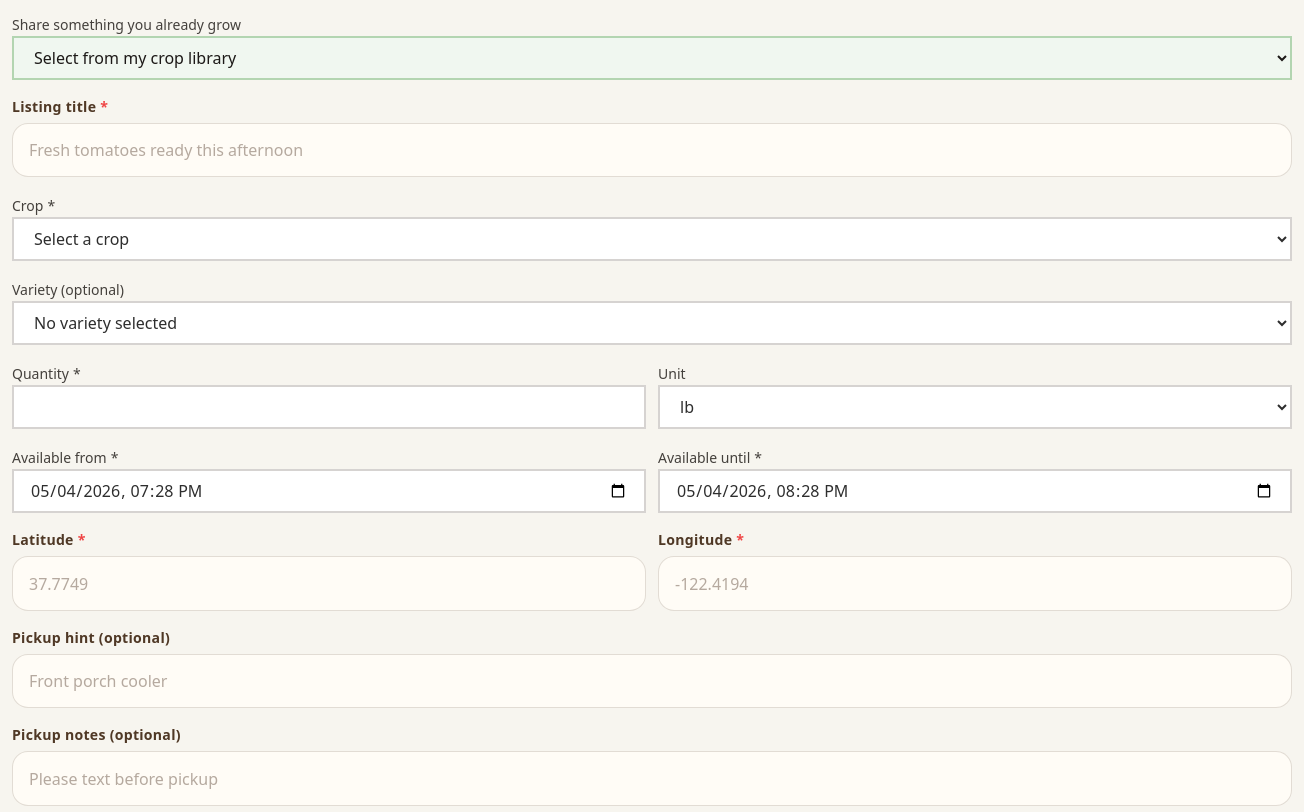
Scenario: ListingForm › prefills from quick pick selection
The width and height of the screenshot is (1304, 812).
Select "Patio Tomatoes" in the dropdown labelled "Share something you already grow" at {"x": 652, "y": 58}, box [12,36,1292,80]
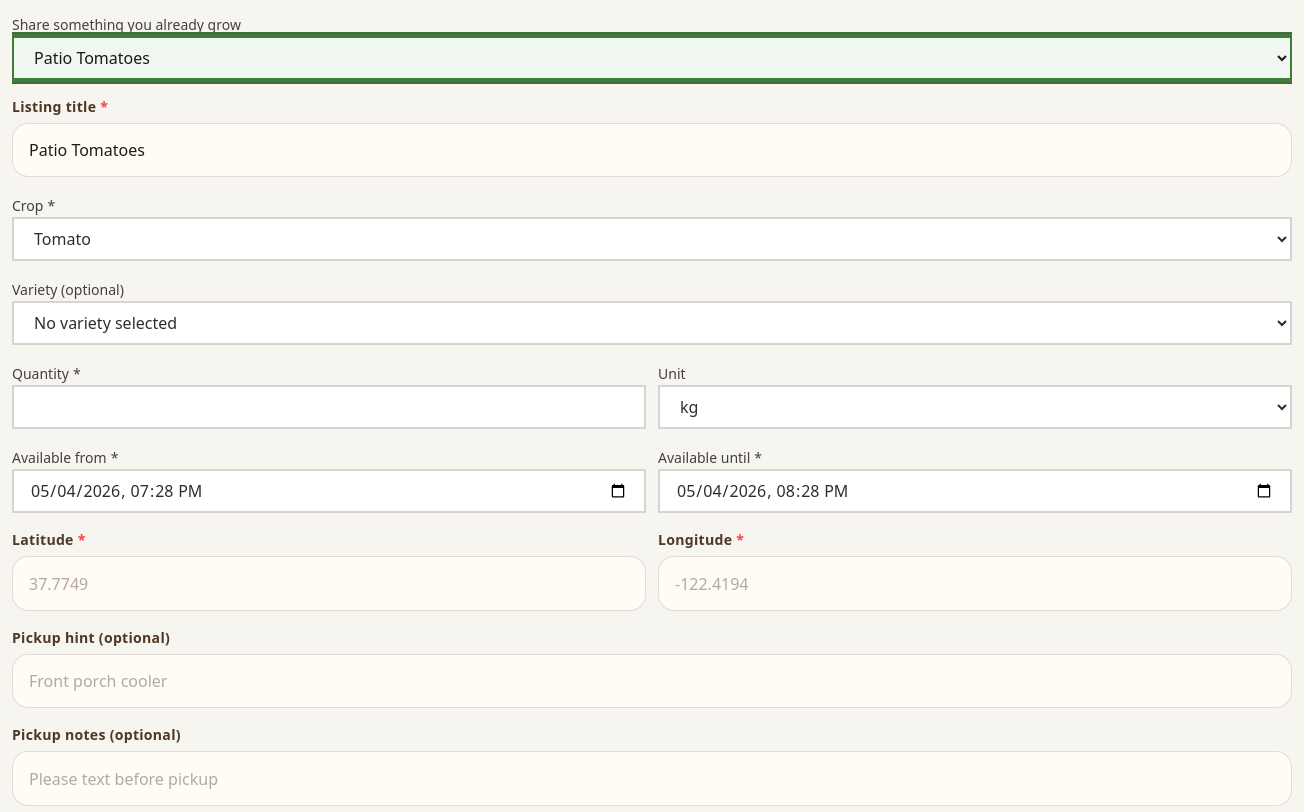
expect the field labelled "Listing title*" holds "Patio Tomatoes": met, box [12,123,1292,178]
expect the dropdown labelled "Crop*" shows "Tomato": met, box [12,218,1292,262]
expect the dropdown labelled "Unit" shows "kg": met, box [658,386,1292,430]
